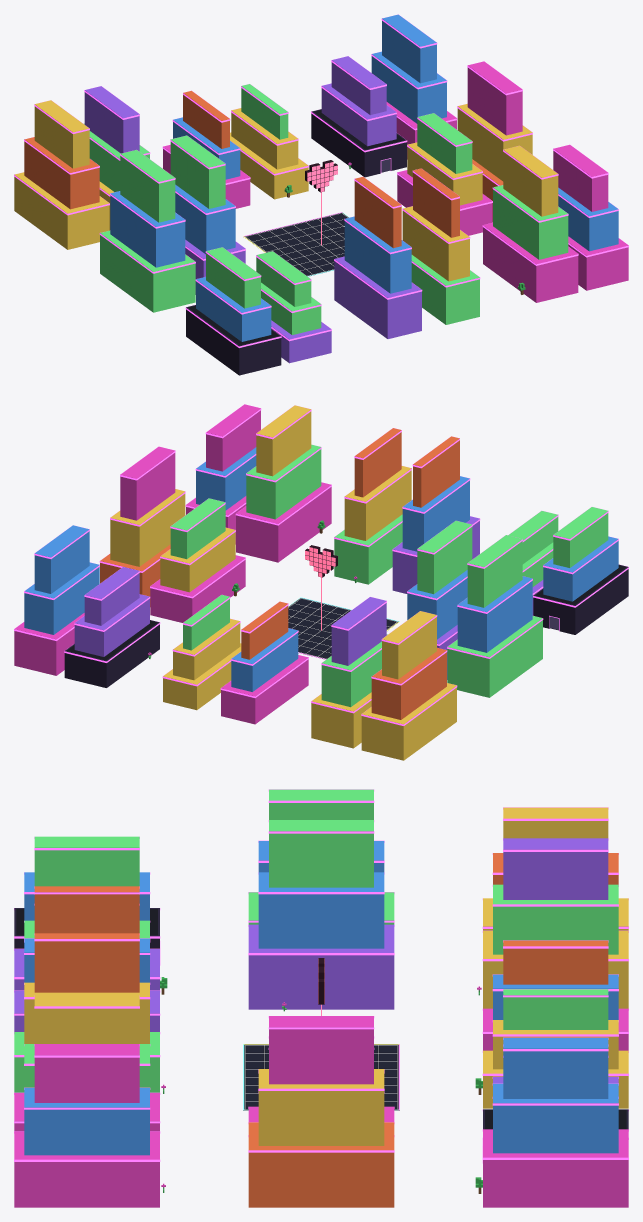
The picture shows the model from 3 angles, top to bottom: view 1: azimuth 30°, elevation 25°; view 2: azimuth 150°, elevation 25°; view 3: azimuth 270°, elevation 25°; orthographic projection. The views are drawn at different scales.
Visible parts, largest first — view 1: district_city_pixel.lod1; view 2: district_city_pixel.lod1; view 3: district_city_pixel.lod1.
Part boxes in pixels (left/top/right/bottom): district_city_pixel.lod1: left=14, top=14, right=628, bottom=375; district_city_pixel.lod1: left=14, top=404, right=628, bottom=760; district_city_pixel.lod1: left=14, top=789, right=628, bottom=1207.
Bounding box in the file's own units: 97.1 × 29.96 × 97.1.
